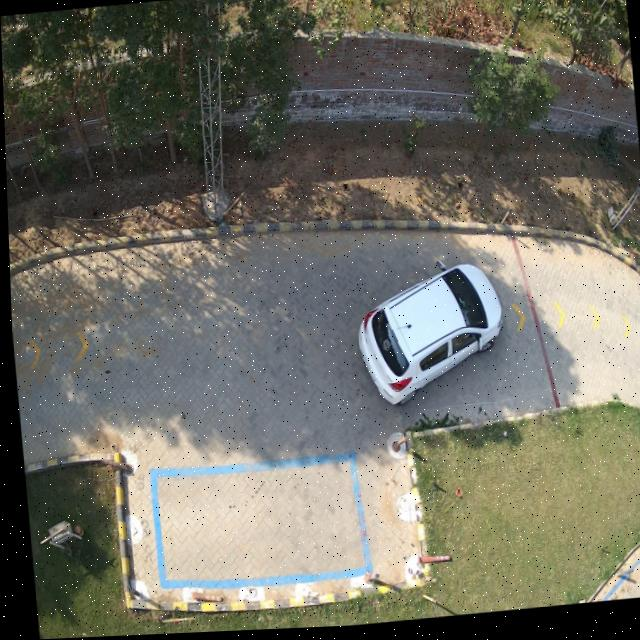car: (355, 268, 500, 408)
